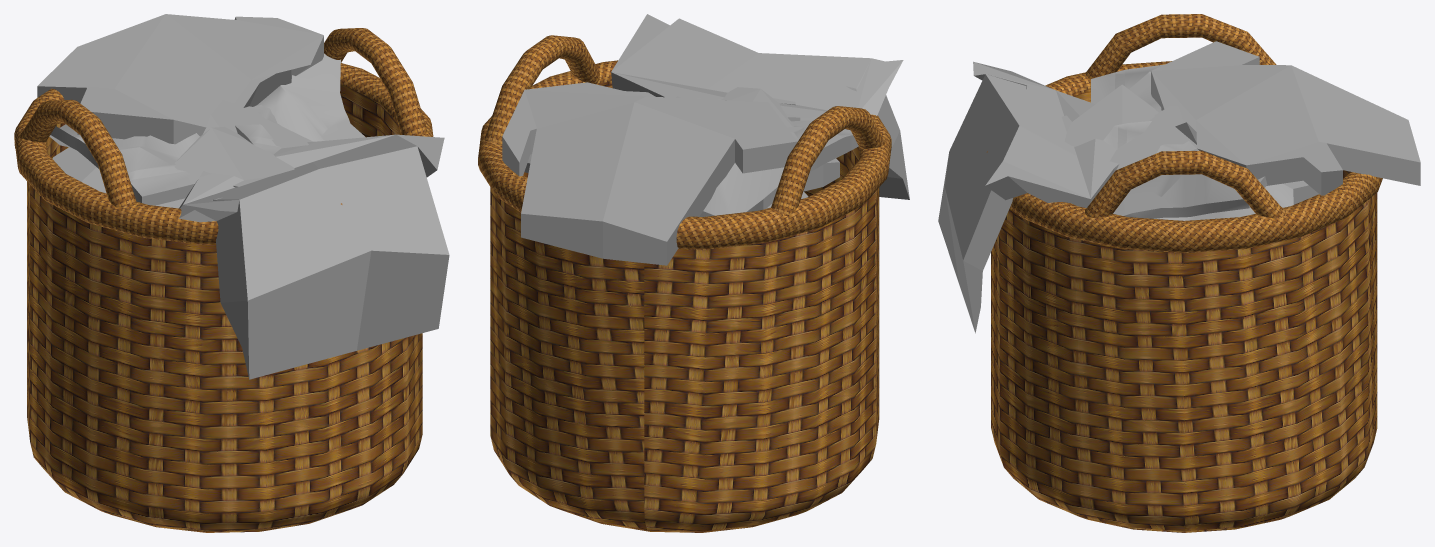
File: basket.fbx
3 views of the same model, side by side, from view 1: azimuth 30°, elevation 25°; view 2: azimuth 150°, elevation 25°; view 3: azimuth 270°, elevation 25° (orthographic). The views are drawn at different scales.
Visible parts, largest first — view 1: polySurface3, polySurface16, polySurface7, pant4, pant2, polySurface19, polySurface13, polySurface17; view 2: polySurface3, polySurface7, polySurface16, pant2, polySurface19; view 3: polySurface3, polySurface7, polySurface16, pant4, polySurface19, polySurface13, polySurface17, pant2.
Boxes of the visible parts, x1,y1,x2,y2 form: polySurface3: (14,28,433,532); polySurface16: (179,134,449,379); polySurface7: (37,14,323,144); pant4: (257,53,365,141); pant2: (49,124,199,205); polySurface19: (156,126,294,208); polySurface13: (52,100,312,193); polySurface17: (235,104,281,154); polySurface3: (478,35,891,532); polySurface7: (502,82,797,265); polySurface16: (611,14,909,199); pant2: (699,120,858,216); polySurface19: (721,87,839,191); polySurface3: (986,14,1382,532); polySurface7: (1151,41,1420,195); polySurface16: (938,61,1118,333); pant4: (1113,149,1267,218); polySurface19: (1061,84,1158,146); polySurface13: (1110,106,1318,204); polySurface17: (1103,121,1293,220); pant2: (1091,64,1163,112).
Size of the model in its own units: 9.73 by 10.44 by 11.44.
